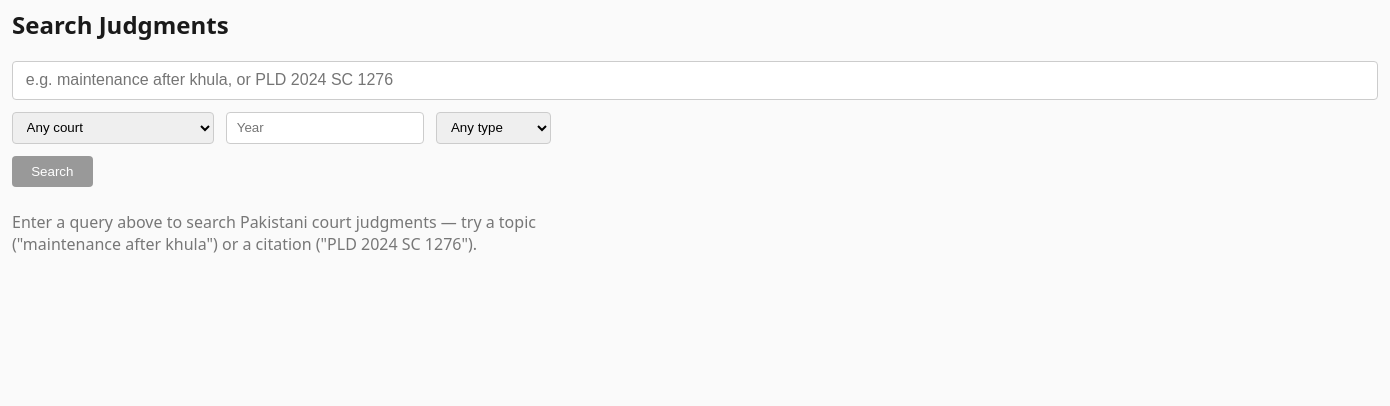
submits query and renders result card with correct fields
Type "PLD 2024 SC 1276" into the field named "Search query" at (695, 80), box [12,61,1378,100]
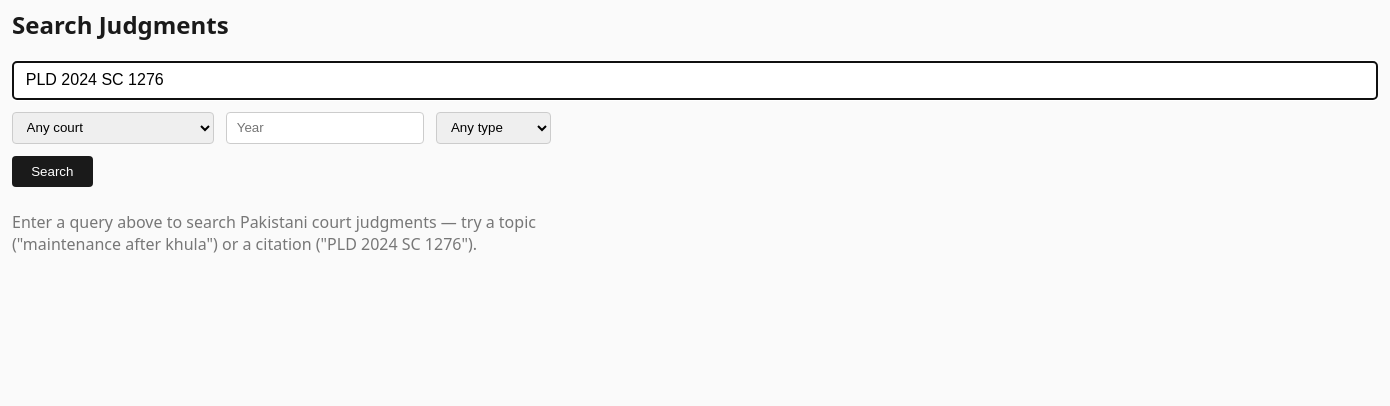
Click the button "Search" at (52, 171), box [12,156,93,187]
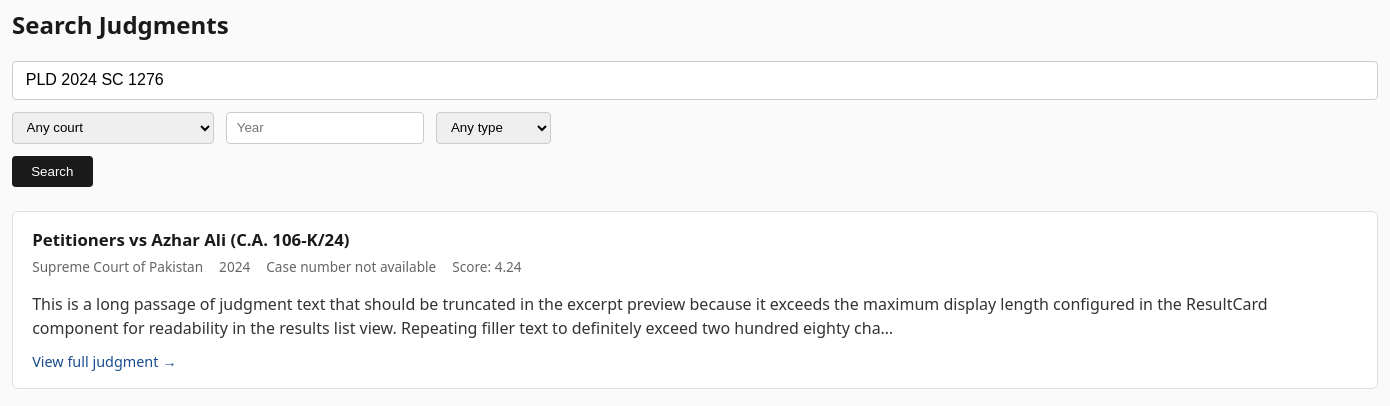
Expected: the heading "Petitioners vs Azhar Ali (C.A. 106-K/24)" is shown, [32,228,350,251]
Expected: the text "Supreme Court of Pakistan" is shown, [32,257,203,276]
Expected: the text "Case number not available" is shown, [266,257,436,276]
